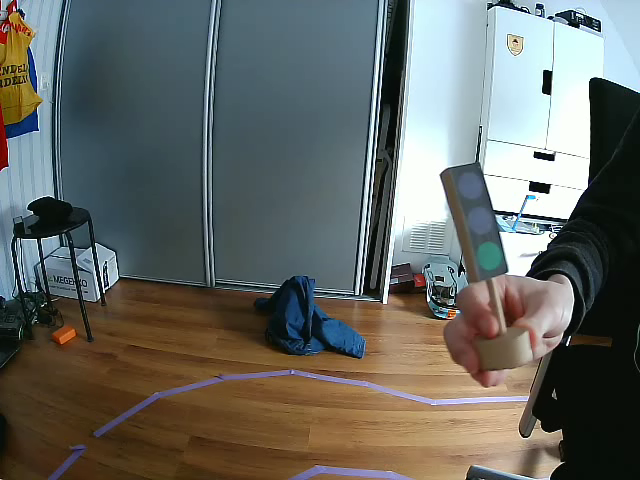groenlicht: (451, 161, 510, 283)
